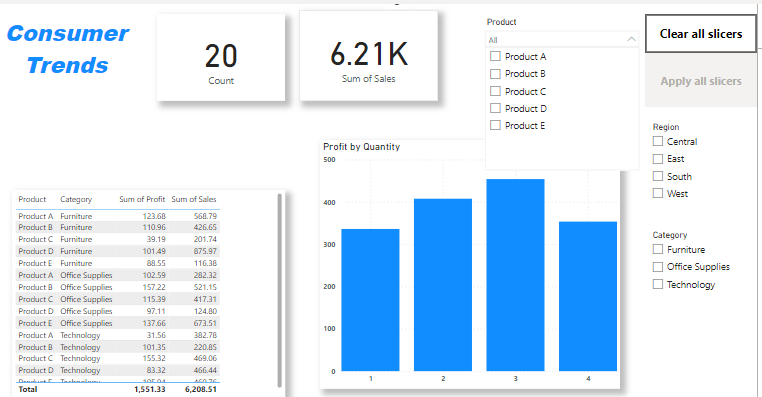

This screenshot's page, from the dashboard's own definition file:
{"tool":"powerbi","page":{"name":"Page 1","canvas":[1280,720],"ordinal":0},"visuals":[{"type":"tableEx","fields":{"Values":["superstore_data.Product","superstore_data.Category","Sum(superstore_data.Profit)","Sum(superstore_data.Sales)"]},"box":[28.6,372.9,458.6,347.7],"z":0},{"type":"slicer","fields":{"Values":["superstore_data.Region"]},"box":[1091.9,253.6,179.7,196.5],"z":1000},{"type":"slicer","fields":{"Values":["superstore_data.Category"]},"box":[1091.9,435.1,188.1,272.1],"z":2000},{"type":"slicer","fields":{"Values":["superstore_data.Product"]},"box":[813,77.3,278.8,107.5],"z":3000},{"type":"actionButton","box":[0,0,200,50],"z":4000},{"type":"actionButton","box":[0,0,200,50],"z":5000},{"type":"actionButton","box":[0,0,200,50],"z":6000},{"type":"actionButton","box":[0,0,200,50],"z":7000},{"type":"actionButton","box":[0,0,200,50],"z":8000},{"type":"actionButton","box":[0,0,200,50],"z":9000},{"type":"actionButton","box":[0,0,200,50],"z":10000},{"type":"actionButton","box":[0,0,200,50],"z":11000},{"type":"actionButton","box":[1091.9,77.3,188.1,65.5],"z":12000},{"type":"actionButton","box":[1091.9,142.8,188.1,90.7],"z":13000},{"type":"card","fields":{"Values":["superstore_data.Count"]},"box":[272.1,77.3,215,146.1],"z":14000},{"type":"card","fields":{"Values":["Sum(superstore_data.Sales)"]},"box":[510.7,70.6,233.5,152.9],"z":15000},{"type":"columnChart","title":"Profit by Quantity","fields":{"Y":["Sum(superstore_data.Profit)"],"Category":["superstore_data.Quantity"]},"box":[545.9,288.9,503.9,418.3],"z":16000},{"type":"textbox","box":[0,77.3,236.9,176.4],"z":17000}]}

Visuals, with their boxes on the page's 1280x720 design canvas (x1, y1, x2, y2). These are canvas units, not pixel positions in the 762x397 screenshot, which may show the page scaled, cropped or inside an application window:
tableEx - superstore_data.Product x superstore_data.Category: {"x1": 29, "y1": 373, "x2": 487, "y2": 721}
slicer - superstore_data.Region: {"x1": 1092, "y1": 254, "x2": 1272, "y2": 450}
slicer - superstore_data.Category: {"x1": 1092, "y1": 435, "x2": 1280, "y2": 707}
slicer - superstore_data.Product: {"x1": 813, "y1": 77, "x2": 1092, "y2": 185}
actionButton: {"x1": 0, "y1": 0, "x2": 200, "y2": 50}
actionButton: {"x1": 0, "y1": 0, "x2": 200, "y2": 50}
actionButton: {"x1": 0, "y1": 0, "x2": 200, "y2": 50}
actionButton: {"x1": 0, "y1": 0, "x2": 200, "y2": 50}
actionButton: {"x1": 0, "y1": 0, "x2": 200, "y2": 50}
actionButton: {"x1": 0, "y1": 0, "x2": 200, "y2": 50}
actionButton: {"x1": 0, "y1": 0, "x2": 200, "y2": 50}
actionButton: {"x1": 0, "y1": 0, "x2": 200, "y2": 50}
actionButton: {"x1": 1092, "y1": 77, "x2": 1280, "y2": 143}
actionButton: {"x1": 1092, "y1": 143, "x2": 1280, "y2": 234}
card - superstore_data.Count: {"x1": 272, "y1": 77, "x2": 487, "y2": 223}
card - Sum(superstore_data.Sales): {"x1": 511, "y1": 71, "x2": 744, "y2": 224}
"Profit by Quantity" columnChart: {"x1": 546, "y1": 289, "x2": 1050, "y2": 707}
textbox: {"x1": 0, "y1": 77, "x2": 237, "y2": 254}
